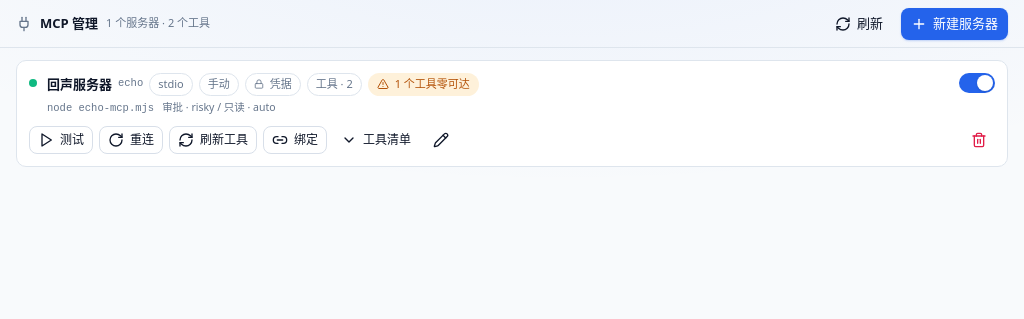
Test: M27：McpConsole › 展开工具清单：注册名 / 原始名 / 角色可达性矩阵
The image size is (1024, 319).
Check: the text "回声服务器" is shown, box x1=47 y1=74 x2=112 y2=94
Step 1. Click the button "工具清单" → (376,140), box x1=333 y1=126 x2=419 y2=154
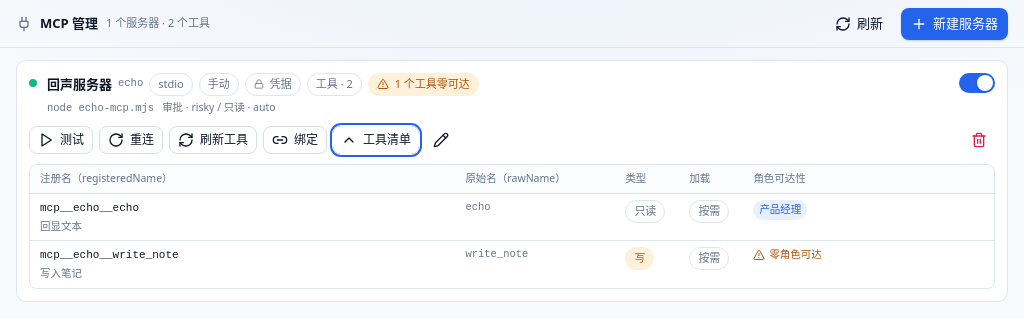
Check: the text "mcp__echo__echo" is shown, box x1=40 y1=202 x2=139 y2=214
Check: the text "mcp__echo__write_note" is shown, box x1=40 y1=249 x2=179 y2=261
Check: the text "echo" in the row of "mcp__echo__echo" is shown, box x1=465 y1=201 x2=491 y2=213
